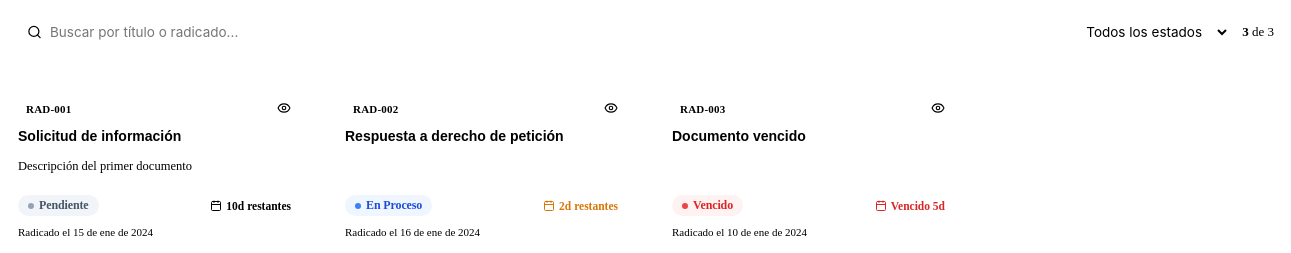
Test: DocumentsList › search filtering › should filter documents by radicado search
Type "RAD-002" into the field with placeholder "Buscar por título o radicado...". click: (560, 32)
box: [16,16,1104,48]
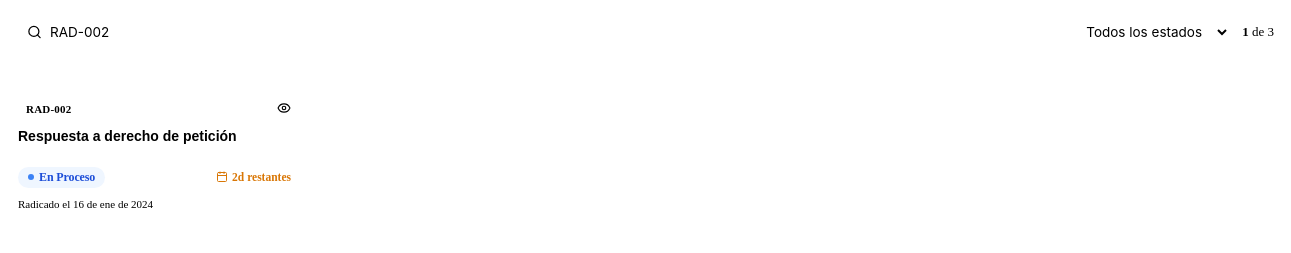
Check: the heading "Respuesta a derecho de petición" is shown, box [18,128,237,144]
Check: the heading "Solicitud de información" is gone
